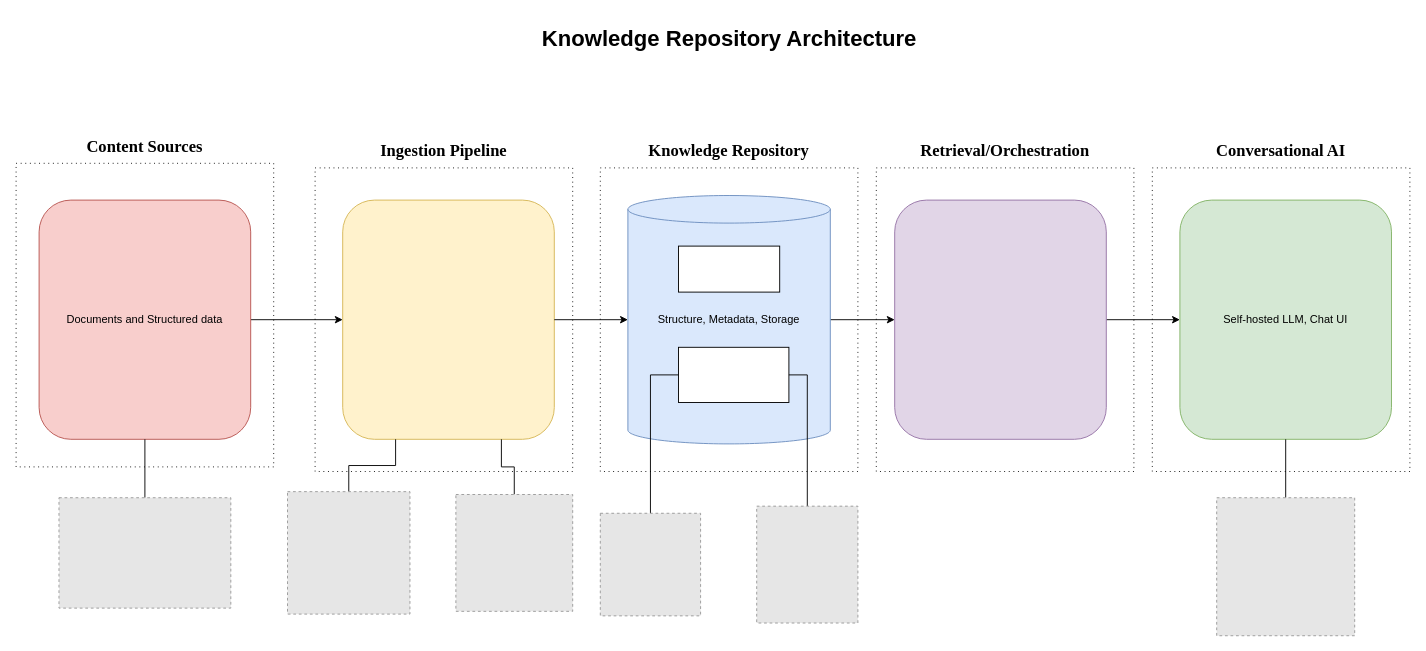
Image size: 1426x651. Some labels were removed from this diagram. Grey dashed boxes stand in for pictures. Each missing label, with the centre of its shape:
"Chunking, embedding, tagging" belongs at (x=448, y=319).
"Organization: Categories: Tags" belongs at (x=733, y=374).
"RAG Pipeline, tag filtering" belongs at (x=1000, y=319).
"Storage: Vector, SQL" belongs at (x=729, y=268).
